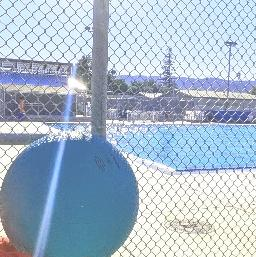algae: (0, 135, 139, 257)
